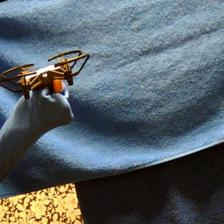drone: (1, 51, 94, 101)
